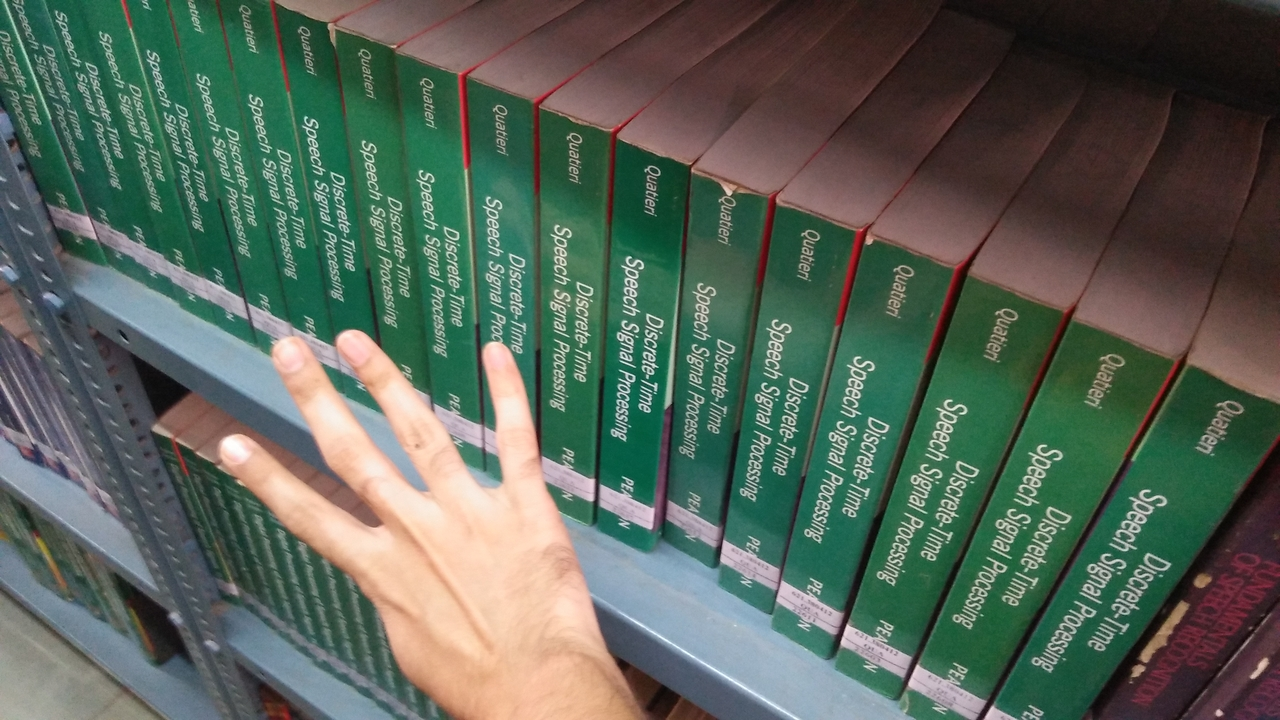fingertip: (320, 322, 392, 382), (258, 326, 322, 390), (472, 336, 528, 388), (204, 430, 263, 475)
